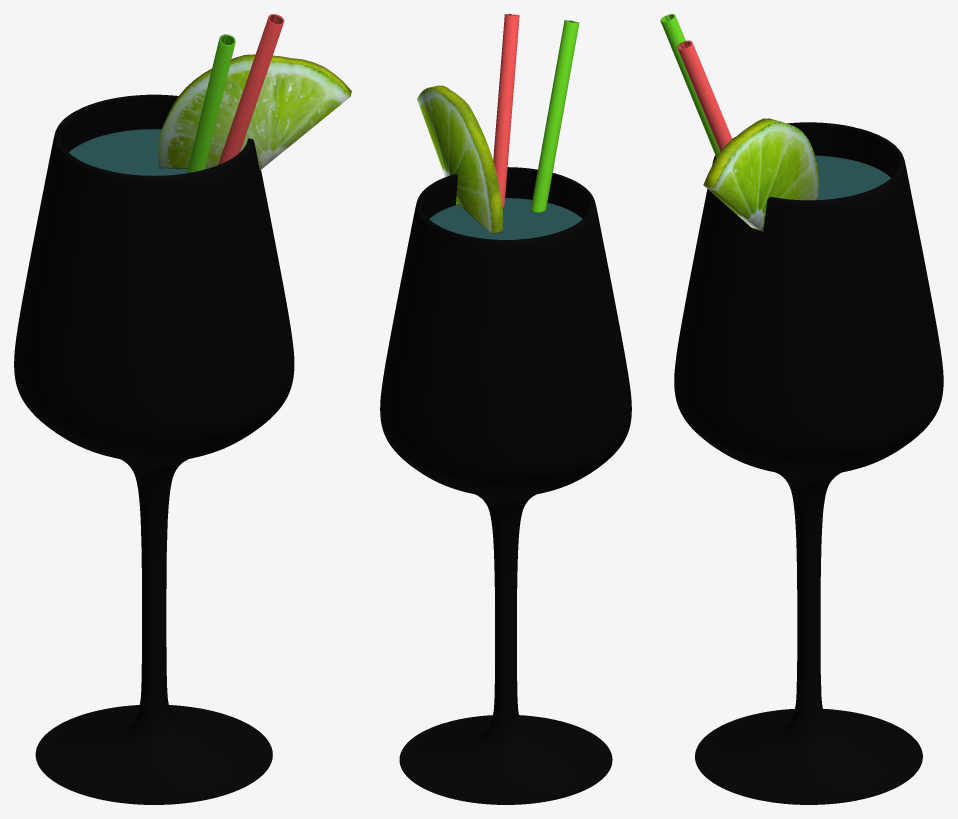
The model's file is summer_drink.glb.
3 views of the same model, side by side, from view 1: azimuth 30°, elevation 25°; view 2: azimuth 150°, elevation 25°; view 3: azimuth 270°, elevation 25° (orthographic). The views are drawn at different scales.
Parts seen in each view (by area): view 1: glass_0, Cylinder.002_0, Circle_0, cocktail_0, Cylinder.001_0, Cylinder_0; view 2: glass_0, Cylinder.002_0, Circle_0, cocktail_0, Cylinder_0, Cylinder.001_0; view 3: glass_0, Cylinder.002_0, Circle_0, cocktail_0, Cylinder.001_0, Cylinder_0.
Boxes of the visible parts, x1,y1,x2,y2 form: glass_0: (14, 94, 294, 804); Cylinder.002_0: (158, 54, 351, 170); Circle_0: (68, 128, 205, 175); cocktail_0: (69, 129, 187, 175); Cylinder.001_0: (218, 14, 284, 164); Cylinder_0: (187, 34, 235, 173); glass_0: (380, 167, 631, 804); Cylinder.002_0: (417, 85, 503, 233); Circle_0: (429, 197, 582, 239); cocktail_0: (429, 198, 582, 239); Cylinder_0: (531, 20, 579, 212); Cylinder.001_0: (493, 14, 519, 207); glass_0: (674, 122, 943, 804); Cylinder.002_0: (703, 118, 819, 231); Circle_0: (815, 155, 890, 200); cocktail_0: (815, 155, 890, 200); Cylinder.001_0: (677, 40, 732, 151); Cylinder_0: (660, 14, 719, 157).
Size of the model in its own units: 0.1537 by 0.421 by 0.1455.
Materials: 6 (1 with a texture image).
